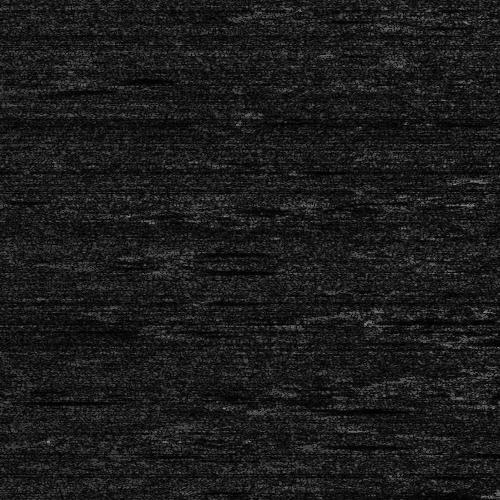object: (388, 334, 461, 345), (226, 405, 319, 412), (68, 74, 141, 79), (68, 75, 141, 80), (144, 266, 207, 271), (447, 174, 500, 179), (0, 397, 23, 400)
shadow: (425, 334, 500, 345), (273, 405, 361, 412), (176, 266, 258, 271), (0, 397, 102, 400), (105, 74, 159, 79), (105, 75, 159, 80), (479, 174, 500, 179)
